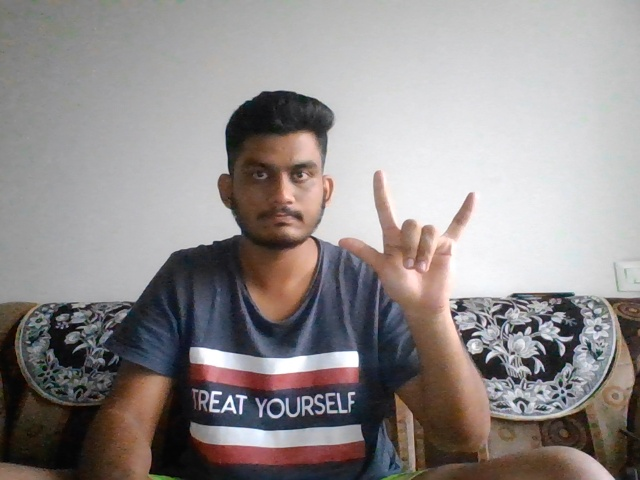I Love You: (339, 171, 492, 319)
